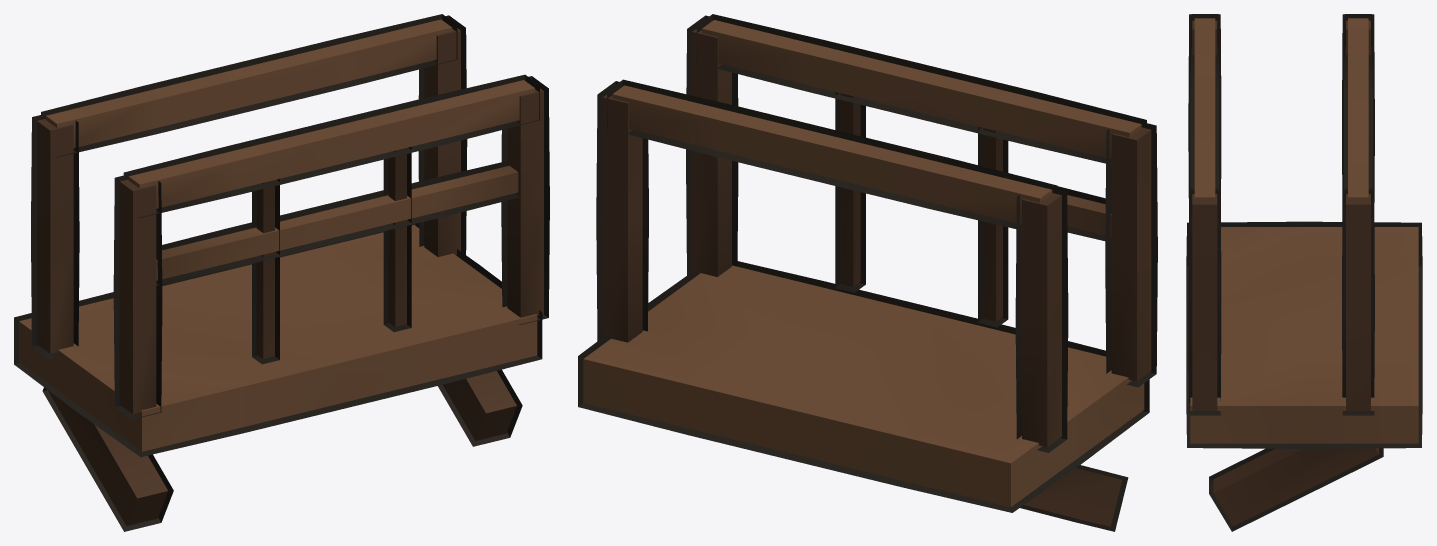
Rendered from balcon_bois.glb.
3 views of the same model, side by side, from view 1: azimuth 30°, elevation 25°; view 2: azimuth 150°, elevation 25°; view 3: azimuth 270°, elevation 25° (orthographic). The views are drawn at different scales.
Visible parts, largest first — view 1: balcon_bois, balcon_bois_outline; view 2: balcon_bois, balcon_bois_outline; view 3: balcon_bois, balcon_bois_outline.
Boxes of the visible parts, x1,y1,x2,y2 form: balcon_bois: (19, 19, 543, 525); balcon_bois_outline: (14, 14, 549, 531); balcon_bois: (583, 20, 1151, 526); balcon_bois_outline: (578, 14, 1157, 531); balcon_bois: (1190, 18, 1418, 526); balcon_bois_outline: (1186, 14, 1422, 531).
Bounding box in the file's own units: 1.08 × 0.9056 × 0.5698.
